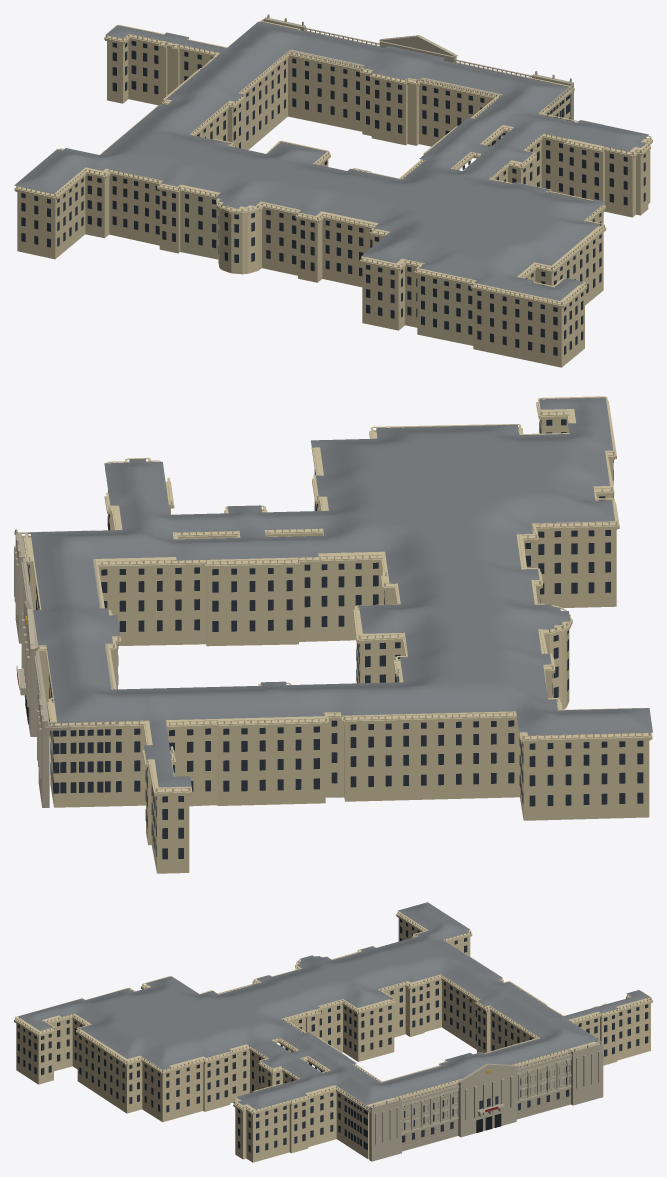
File: buckingham-site-b60.glb
The picture shows the model from 3 angles, top to bottom: view 1: azimuth 30°, elevation 25°; view 2: azimuth 150°, elevation 25°; view 3: azimuth 270°, elevation 25°; orthographic projection. The views are drawn at different scales.
Size of the model in its own units: 190 by 27.71 by 247.
